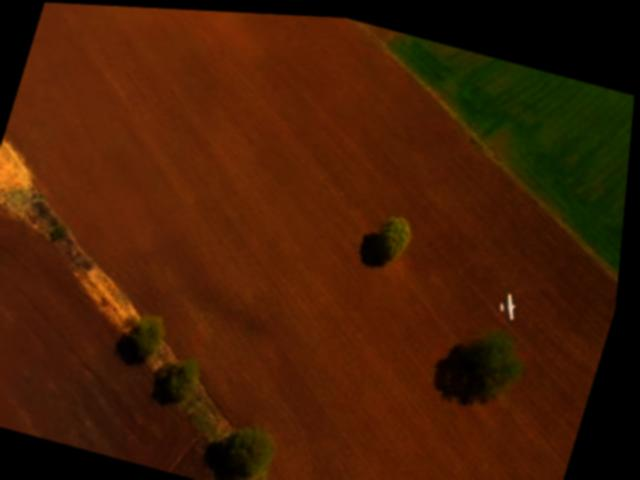uav: (497, 279, 535, 321)
